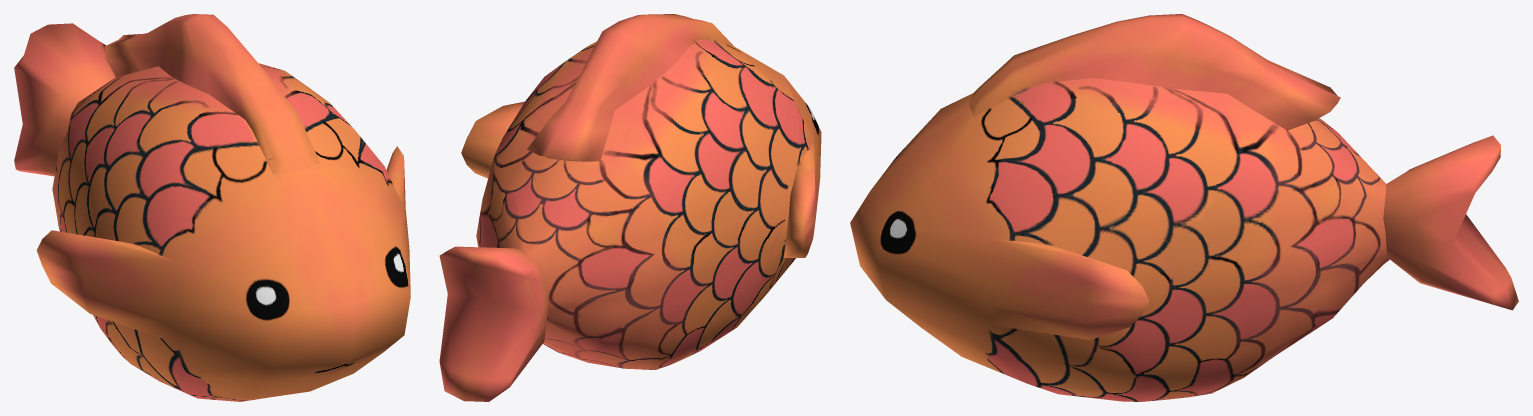
Rendered from vis.fbx.
The picture shows the model from 3 angles, left to right: view 1: azimuth 30°, elevation 25°; view 2: azimuth 150°, elevation 25°; view 3: azimuth 270°, elevation 25°; orthographic projection. The views are drawn at different scales.
Visible parts, largest first — view 1: Sphere; view 2: Sphere; view 3: Sphere.
Part boxes in pixels (box(x1,y1,x2,y2)): Sphere: box(14, 14, 410, 401); Sphere: box(439, 14, 821, 401); Sphere: box(850, 14, 1518, 401).
Size of the model in its own units: 76.43 by 70.33 by 118.
1 material, 1 textured.
